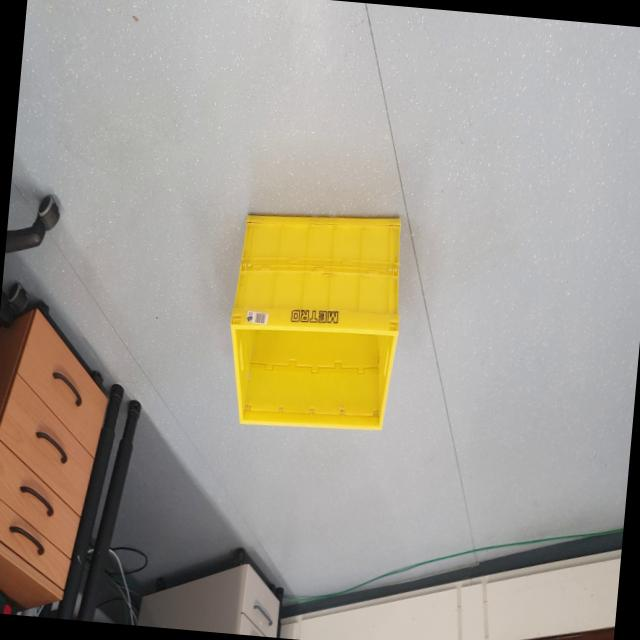box: (212, 195, 417, 452)
